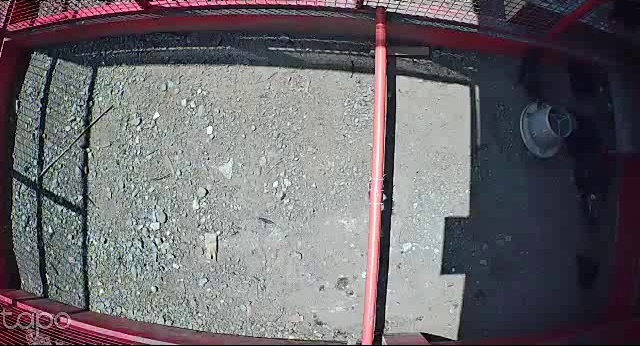Feeder: (518, 98, 574, 158)
